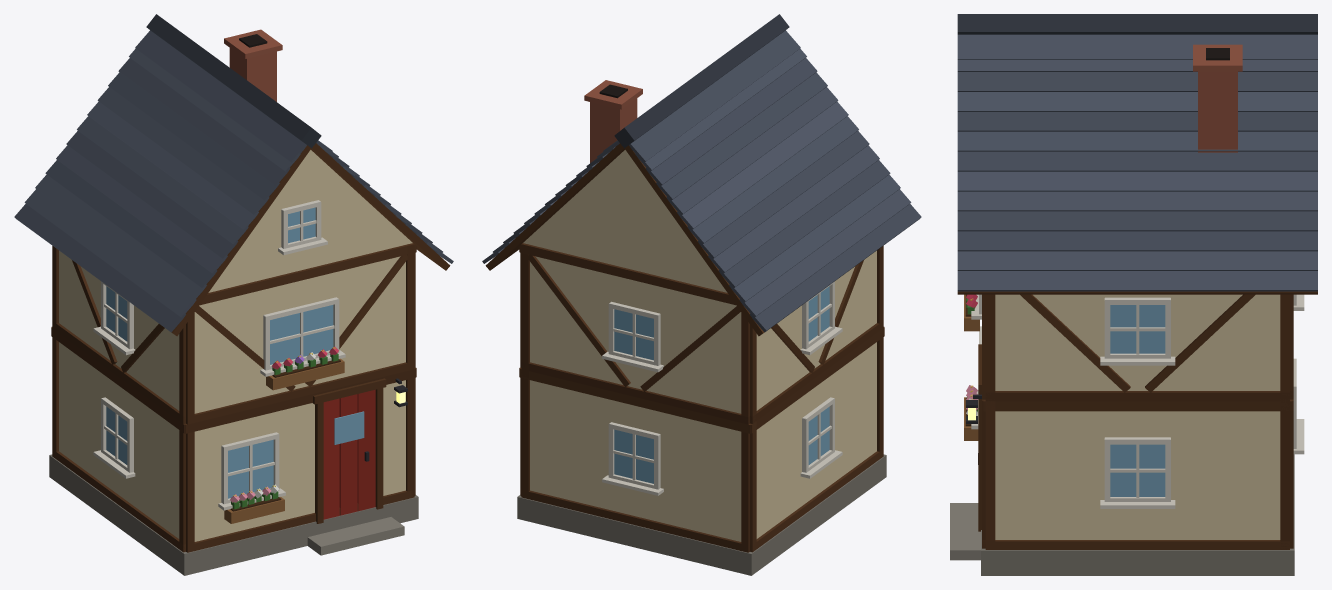
File: casa_vecino_entramado.glb
3 renders of one model, left to right at view 1: azimuth 30°, elevation 25°; view 2: azimuth 150°, elevation 25°; view 3: azimuth 270°, elevation 25°, orthographic. The views are drawn at different scales.
Visible parts, largest first — view 1: SM_CasaVecino_entramado; view 2: SM_CasaVecino_entramado; view 3: SM_CasaVecino_entramado.
Boxes of the visible parts, bbox=[...] form: SM_CasaVecino_entramado: bbox=[14, 14, 453, 575]; SM_CasaVecino_entramado: bbox=[482, 14, 921, 575]; SM_CasaVecino_entramado: bbox=[950, 14, 1317, 575].
Bounding box in the file's own units: 4.76 × 6.83 × 4.59.
